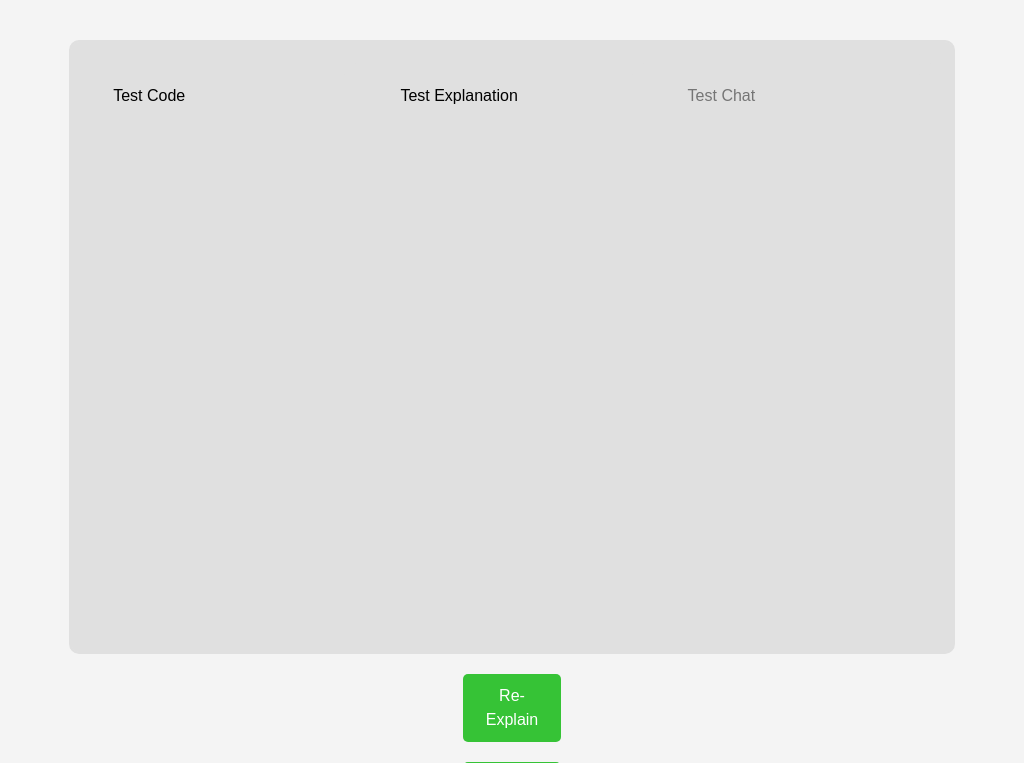
Test: Feedback Component › handles API error
Type "New question" into the text box with placeholder "Test Chat" at (799, 347), box x1=677 y1=73 x2=922 y2=621
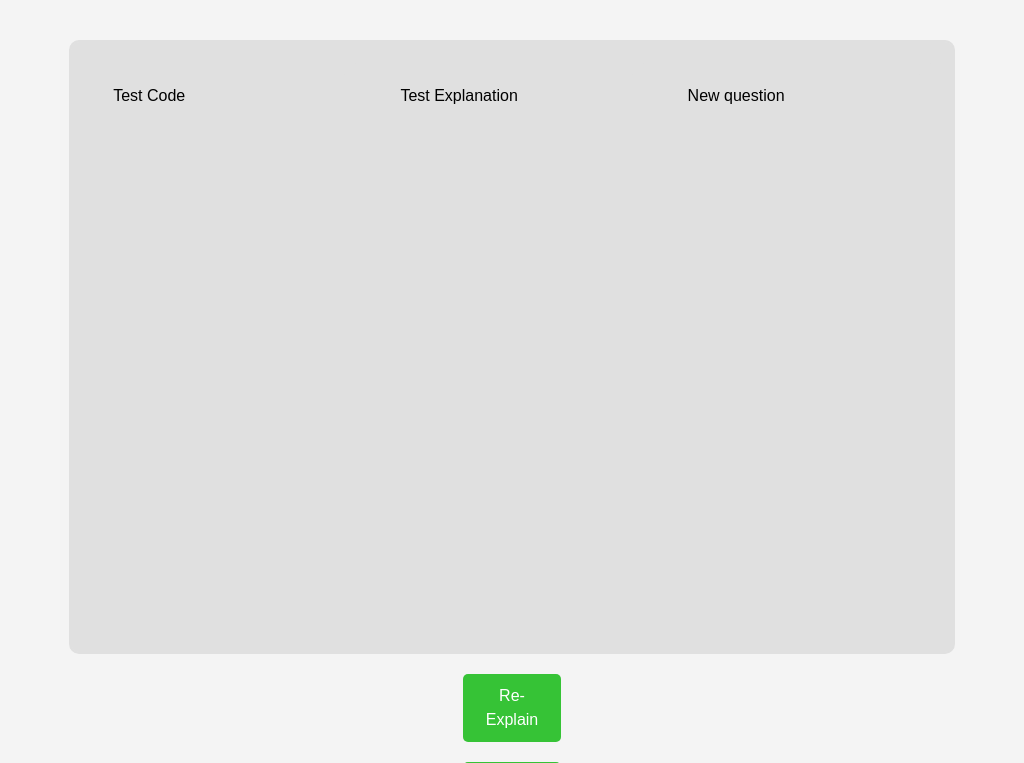
Submit the form named "feedback form"
(page scrolled)
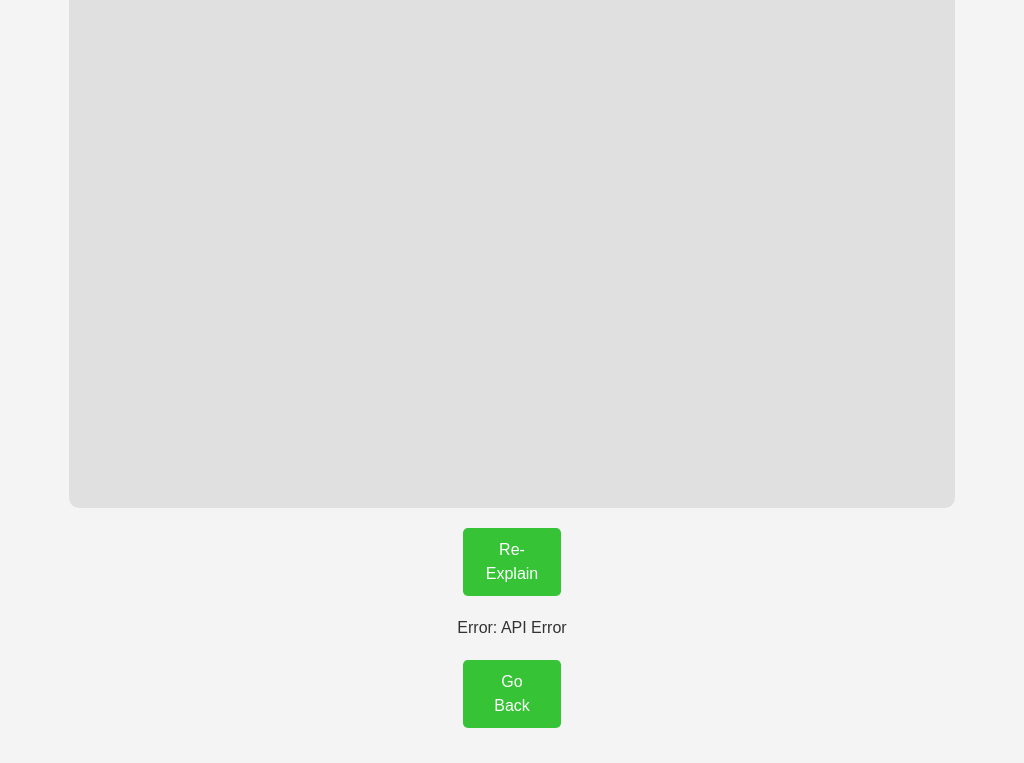
Result: the text "Error: API Error" is shown at x1=457 y1=619 x2=567 y2=636
